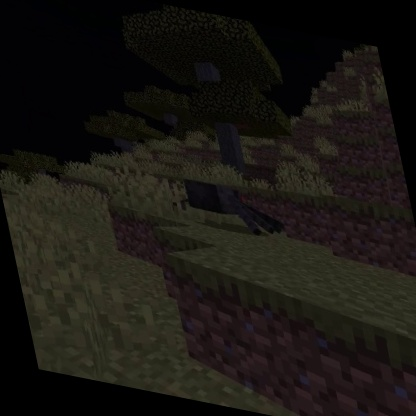spider: (175, 174, 290, 245)
